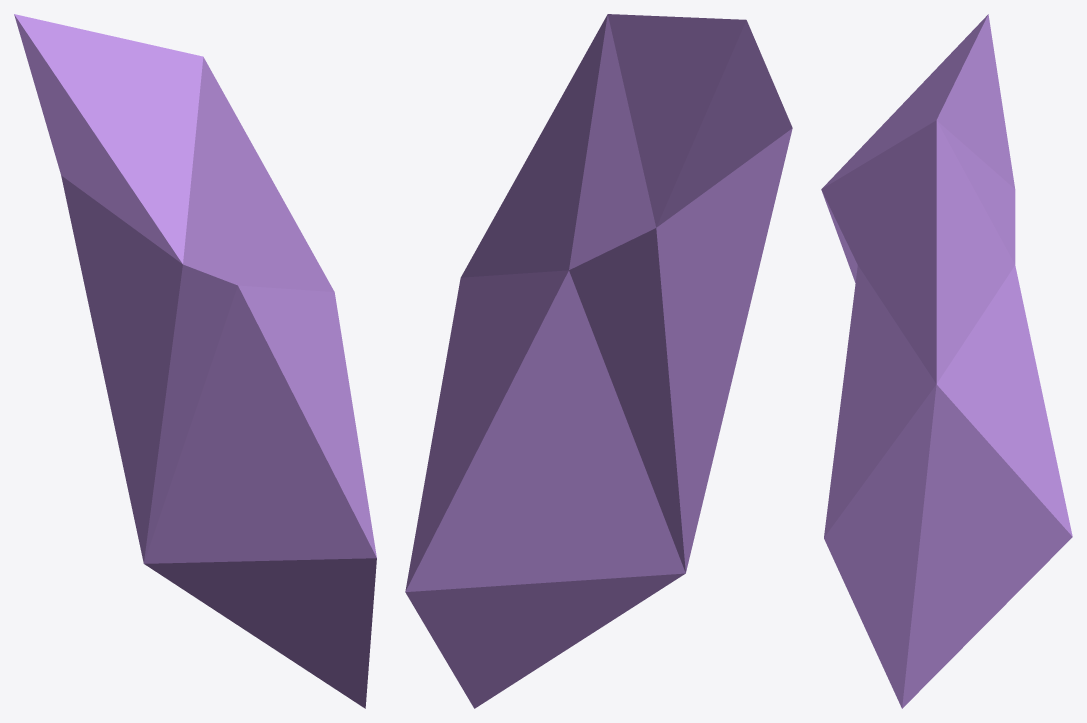
Rendered from TheDarkCrystal(TM).glb.
3 views of the same model, side by side, from view 1: azimuth 30°, elevation 25°; view 2: azimuth 150°, elevation 25°; view 3: azimuth 270°, elevation 25° (orthographic). The views are drawn at different scales.
Parts seen in each view (by area): view 1: Cube; view 2: Cube; view 3: Cube.
Part boxes in pixels (x1=…): Cube: x1=14, y1=14, x2=376, y2=708; Cube: x1=405, y1=14, x2=792, y2=708; Cube: x1=821, y1=14, x2=1072, y2=708.
Size of the model in its own units: 2.27 by 5.31 by 2.09.
